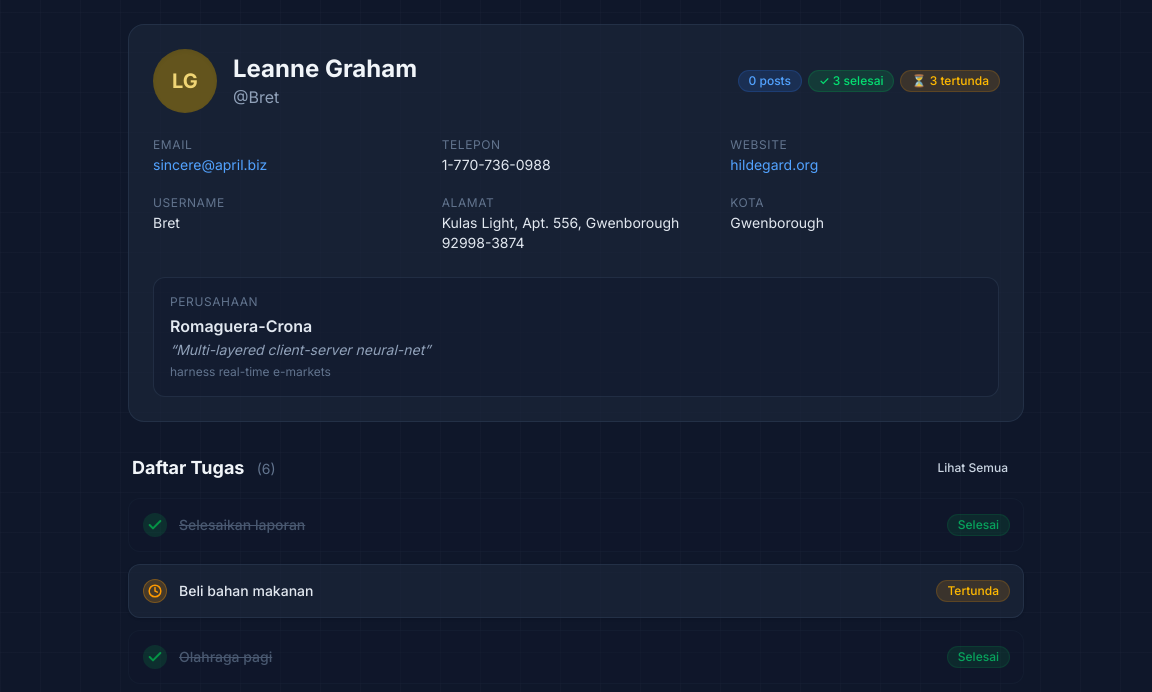
it: UserDetailContainer — todos section › expands todos to show all on toggle
The image size is (1152, 692).
Click the button "Lihat Semua". click: (973, 468)
box: left=925, top=454, right=1020, bottom=482
(page scrolled)
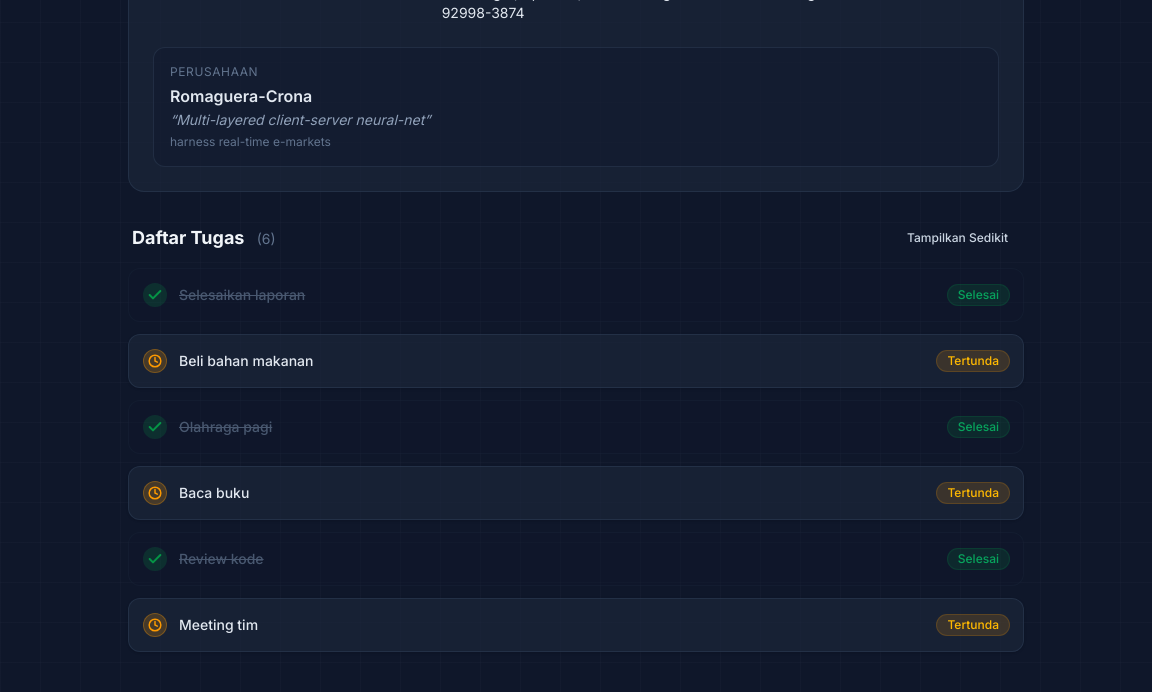
Result: the text "Meeting tim" is shown at left=179, top=616, right=258, bottom=633
